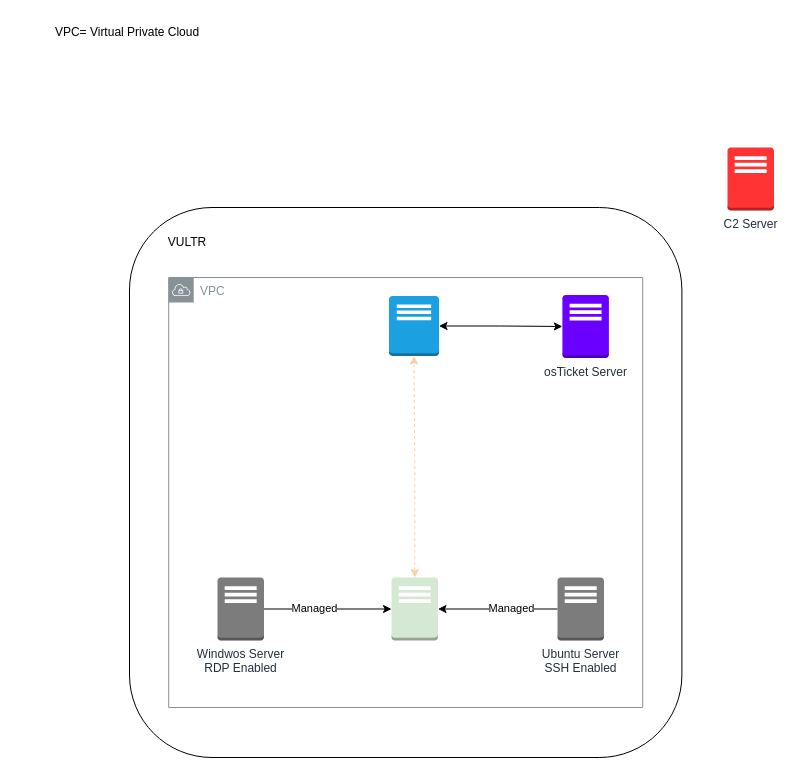
Image size: 795x775. Some labels were removed from this diagram. Each missing label, with the centre of its shape:
"Elastik & Kibana" belongs at (413,325).
"Fleet Server" belongs at (414,608).
